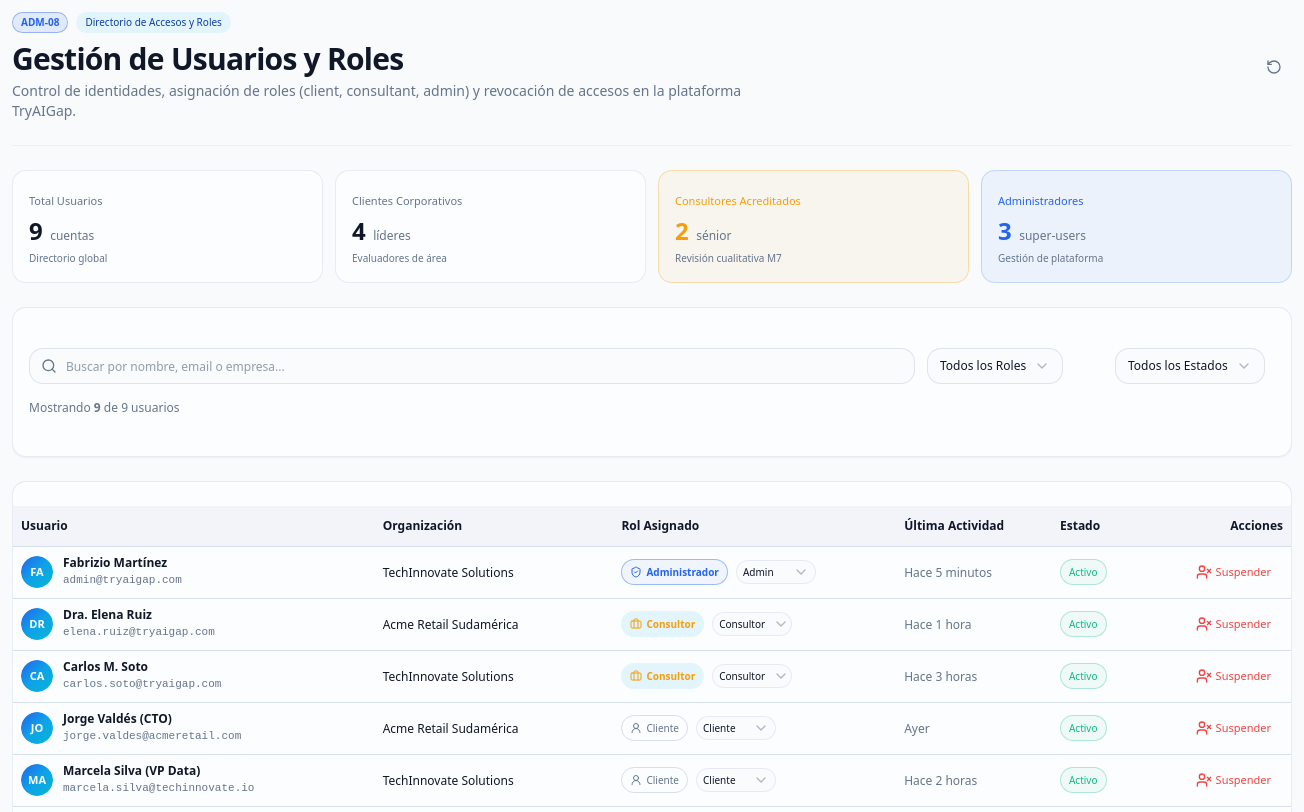
Scenario: AdminUsers Page › filters users by search input
Type "Elena" into the field with placeholder "Buscar por nombre, email o empresa..." at (472, 366), box [29,348,915,384]
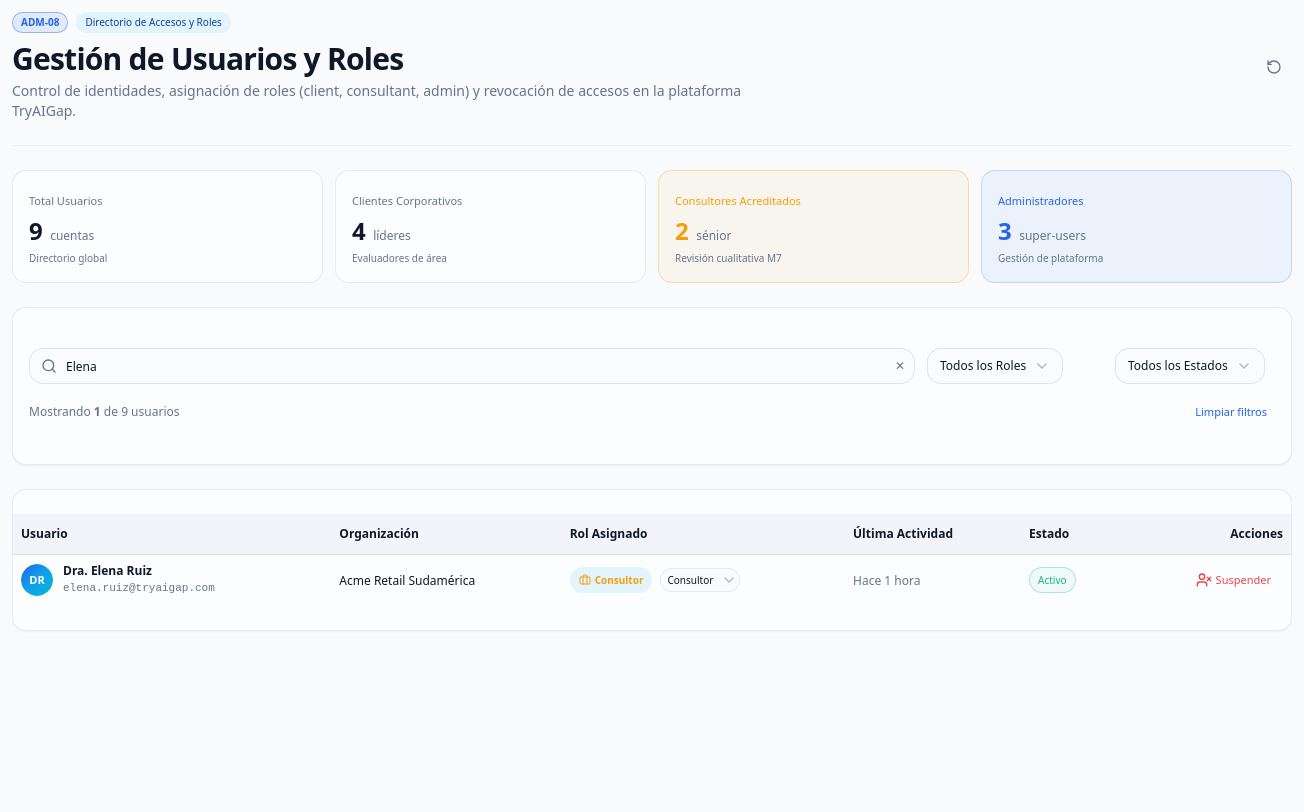
Check: the text "Dra. Elena Ruiz" is shown, box [63,562,152,578]
Check: the text "Jorge Valdés (CTO)" is gone
